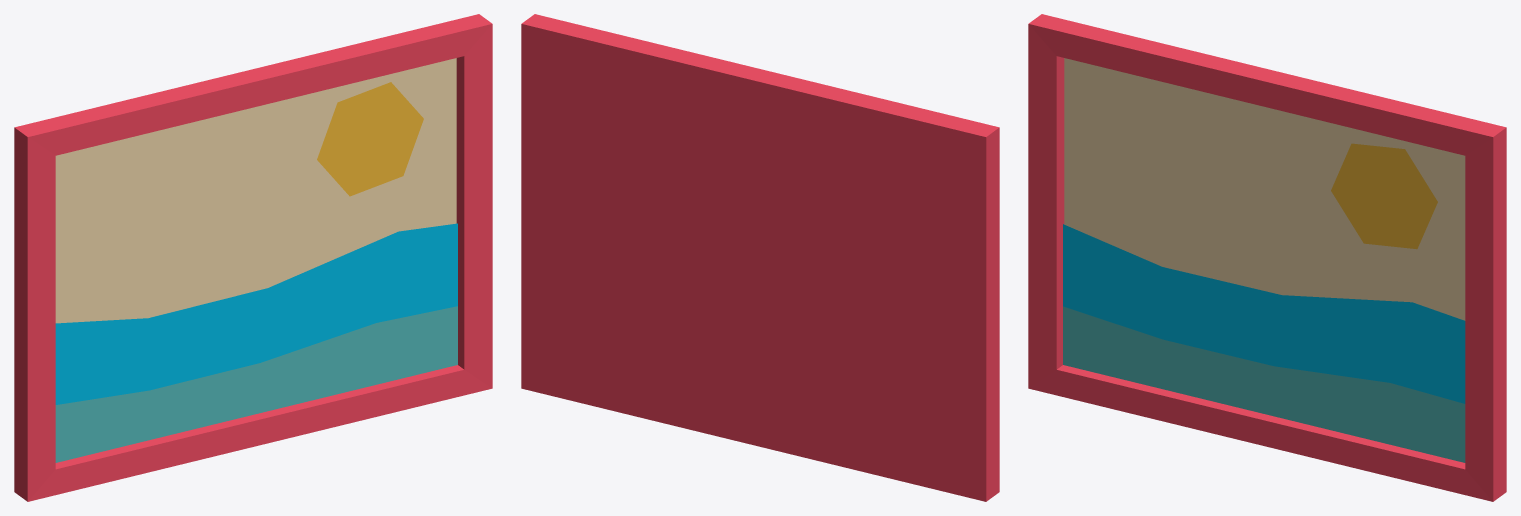
Rendered from PhotoFrame.fbx.
The picture shows the model from 3 angles, left to right: view 1: azimuth 30°, elevation 25°; view 2: azimuth 150°, elevation 25°; view 3: azimuth 330°, elevation 25°; orthographic projection.
Parts seen in each view (by area): view 1: PhotoFrame; view 2: PhotoFrame; view 3: PhotoFrame.
Part boxes in pixels (<box>): PhotoFrame: <box>14,14,492,501</box>; PhotoFrame: <box>521,14,999,501</box>; PhotoFrame: <box>1028,14,1506,501</box>.
Bounding box in the file's own units: 100 × 75 × 5.
